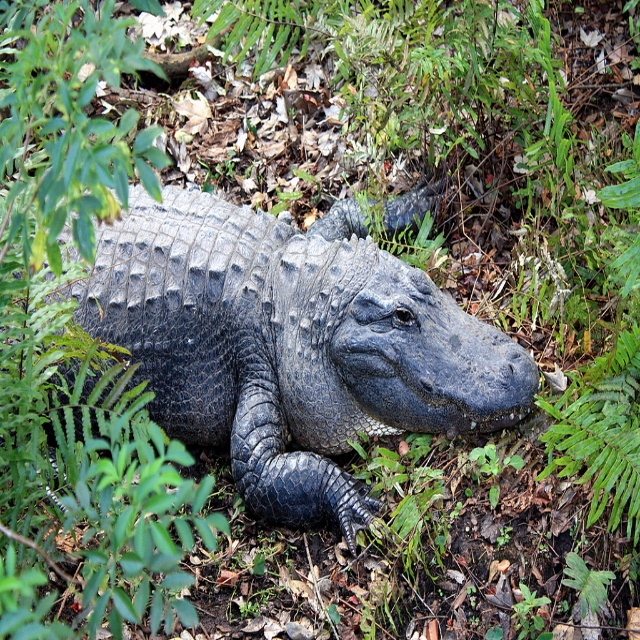Crocodile: (0, 170, 540, 559)
